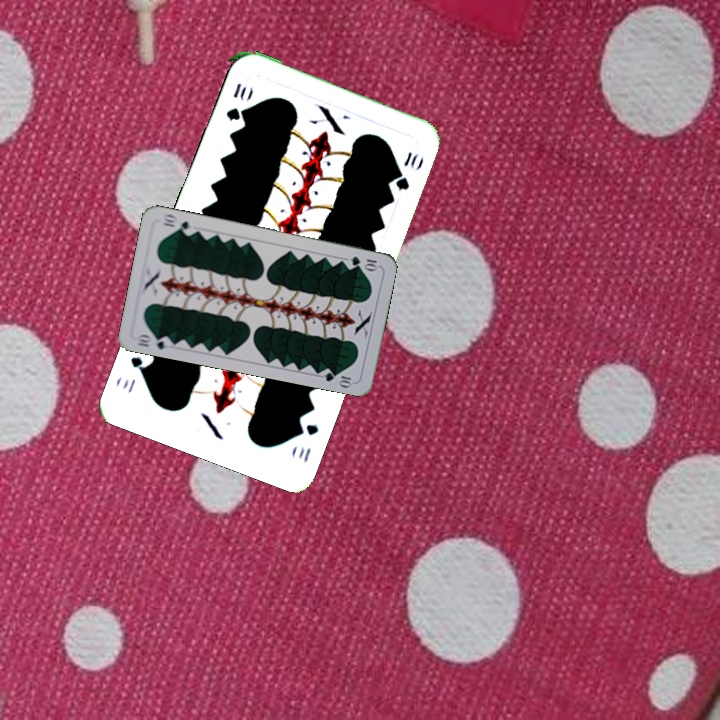G10: (292, 418, 322, 466), (222, 79, 249, 123), (132, 330, 174, 352), (347, 252, 381, 272)
